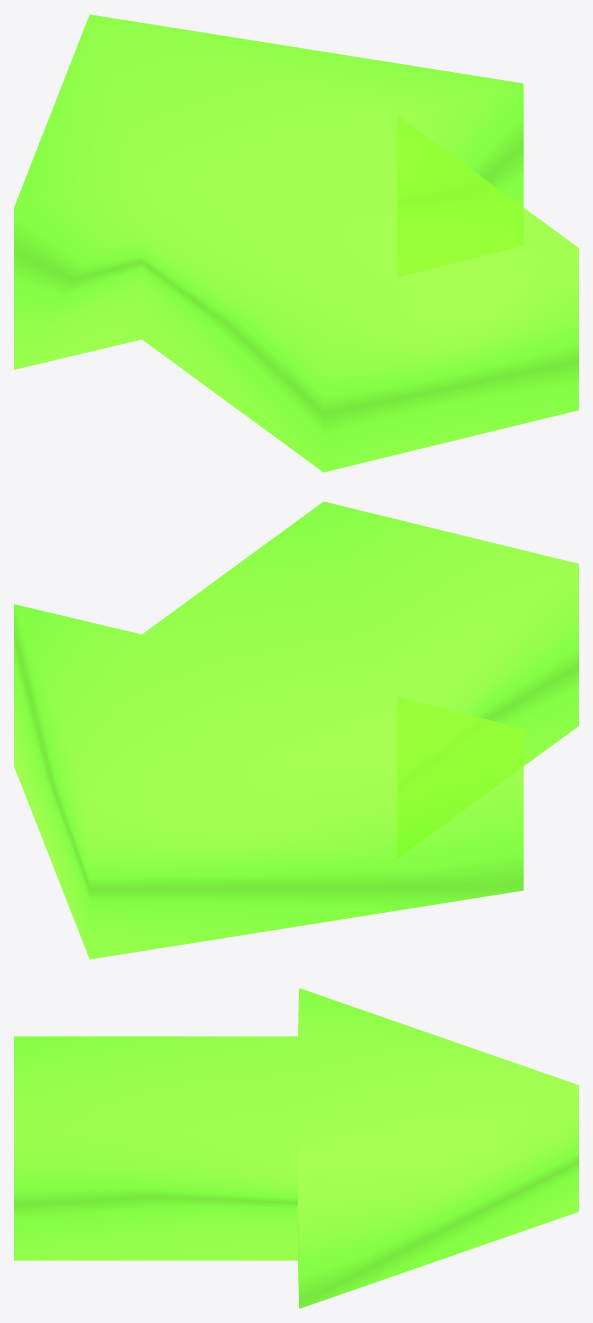
Rendered from direction.gltf.
3 renders of one model, top to bottom at view 1: azimuth 30°, elevation 25°; view 2: azimuth 150°, elevation 25°; view 3: azimuth 270°, elevation 25°, orthographic. The views are drawn at different scales.
Visible parts, largest first — view 1: default; view 2: default; view 3: default.
Boxes of the visible parts, left/top/right/bottom form: default: left=14, top=14, right=578, bottom=472; default: left=14, top=501, right=578, bottom=959; default: left=14, top=988, right=578, bottom=1308.
Size of the model in its own units: 0.7515 by 0.2286 by 0.9239.
